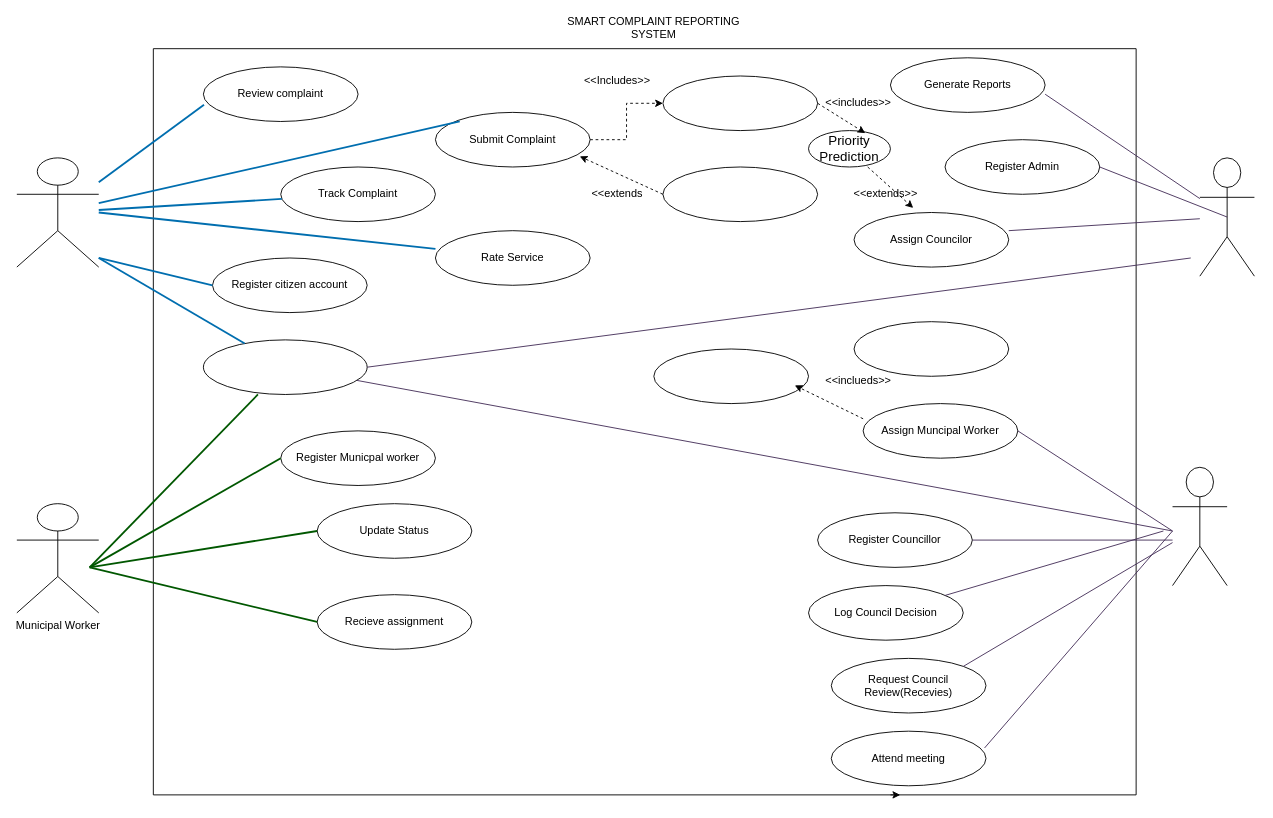
The diagram is 1273 pixels wide and 818 high, and some of its shapes have lost their labels. Each missing label, with the centre of its shape:
"Adminstrator" belongs at (1226,216).
"AI Classification" belongs at (740,103).
"Citizen" belongs at (57,212).
"Councilor" belongs at (1199,526).
"Login" belongs at (284,366).
"Reclassify Complaint" belongs at (931,348).
"Request Council Review(when citizen escalates)" belongs at (740,194).
"View Geo Map Dashboard" belongs at (731,376).
